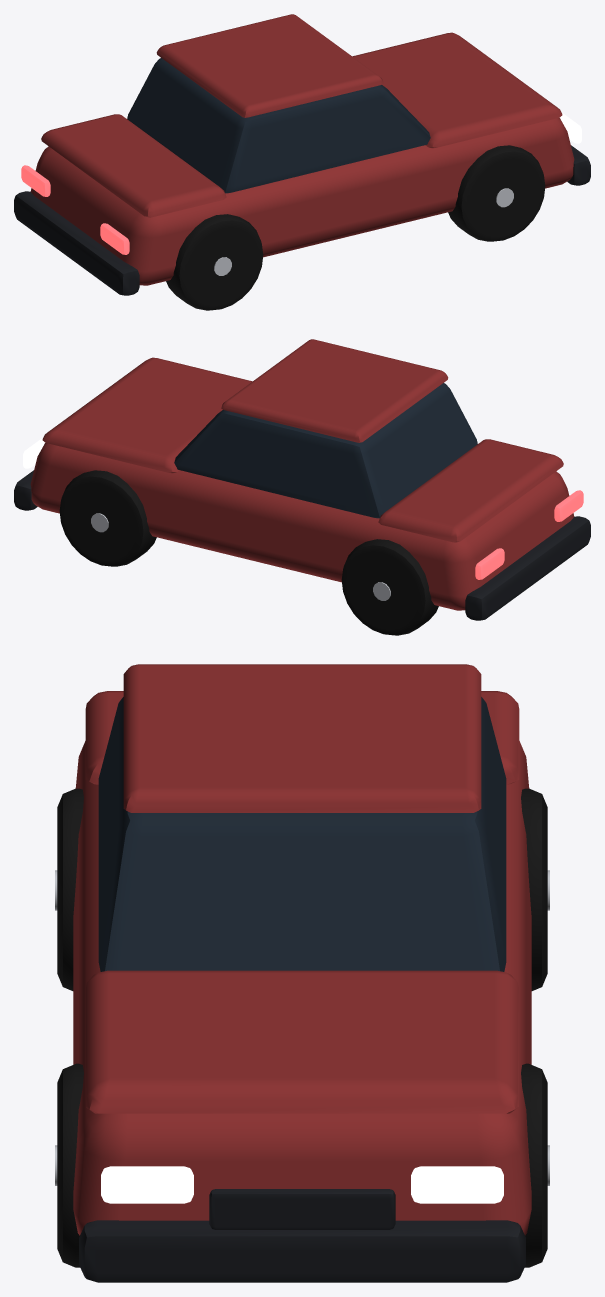
Rendered from sedan.glb.
The picture shows the model from 3 angles, top to bottom: view 1: azimuth 30°, elevation 25°; view 2: azimuth 150°, elevation 25°; view 3: azimuth 270°, elevation 25°; orthographic projection. The views are drawn at different scales.
Visible parts, largest first — view 1: part-paint, part-glass, wheel-+10--1-tyre, wheel--10--1-tyre, part-trim, part-taillight; view 2: part-paint, part-glass, wheel-+10-1-tyre, wheel--10-1-tyre, part-trim, part-taillight; view 3: part-paint, part-glass, part-trim, wheel-+10-1-tyre, wheel-+10--1-tyre, wheel--10-1-tyre, wheel--10--1-tyre, headlight-1, headlight--1.
Boxes of the visible parts, x1,y1,x2,y2 form: part-paint: (30,14,574,285); part-glass: (127,58,430,193); wheel-+10--1-tyre: (448,145,545,241); wheel--10--1-tyre: (166,214,263,310); part-trim: (14,145,590,295); part-taillight: (21,165,129,254); part-paint: (30,339,574,610); part-glass: (174,383,477,518); wheel-+10-1-tyre: (59,470,156,566); wheel--10-1-tyre: (341,539,438,635); part-trim: (14,470,590,620); part-taillight: (475,490,583,579); part-paint: (73,664,531,1235); part-glass: (98,697,506,971); part-trim: (79,1189,525,1282); wheel-+10-1-tyre: (521,1063,547,1267); wheel-+10--1-tyre: (57,1063,83,1267); wheel--10-1-tyre: (521,788,547,990); wheel--10--1-tyre: (57,788,83,990); headlight-1: (411,1166,503,1203); headlight--1: (101,1166,193,1203).
Bounding box in the file's own units: 35.2 × 12.9 × 15.96.
